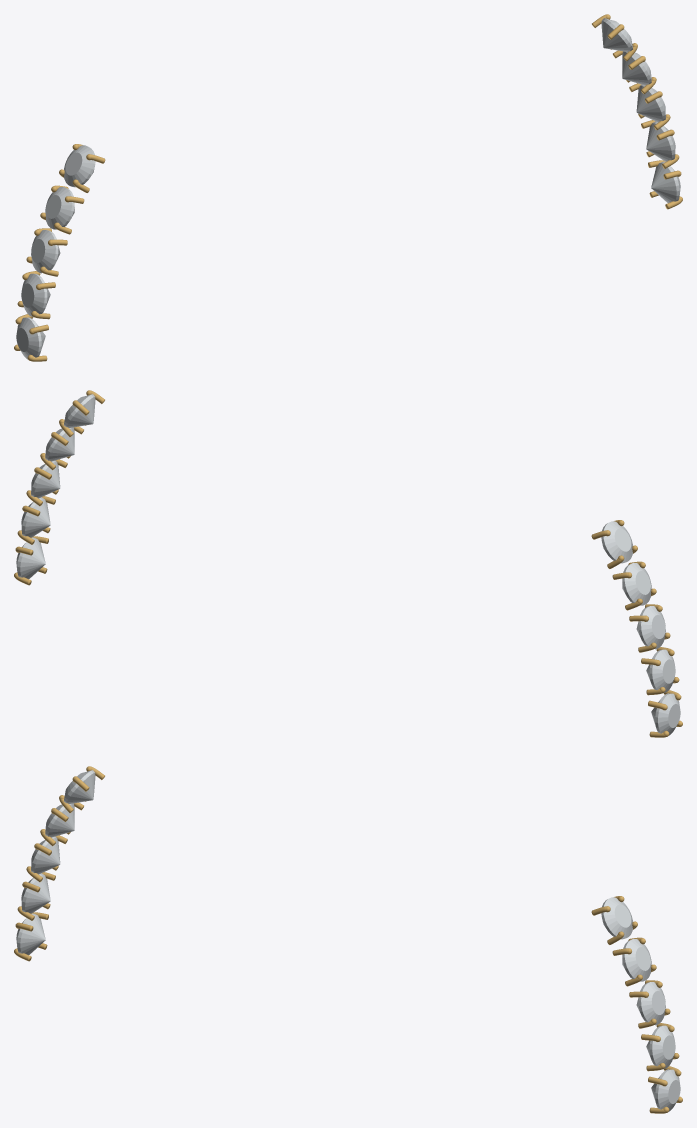
Rendered from accents-micro-pave-wide.glb.
The picture shows the model from 3 angles, top to bottom: view 1: azimuth 30°, elevation 25°; view 2: azimuth 150°, elevation 25°; view 3: azimuth 330°, elevation 25°; orthographic projection.
Parts seen in each view (by area): view 1: Gem, Gem.001, Gem.002, Gem.003, Gem.004, Gem.009, Gem.008, Gem.005, Gem.007, Gem.006; view 2: Gem, Gem.001, Gem.002, Gem.003, Gem.004, Gem.009, Gem.008, Gem.005, Gem.007, Gem.006; view 3: Gem.005, Gem.006, Gem.007, Gem.008, Gem.009, Gem.004, Gem.003, Gem, Gem.002, Gem.001.
Boxes of the visible parts, bbox=[...] form: Gem: bbox=[64, 145, 95, 187]; Gem.001: bbox=[45, 187, 74, 229]; Gem.002: bbox=[31, 230, 60, 273]; Gem.003: bbox=[21, 273, 50, 316]; Gem.004: bbox=[16, 317, 45, 359]; Gem.009: bbox=[651, 161, 680, 202]; Gem.008: bbox=[646, 121, 675, 161]; Gem.005: bbox=[601, 18, 632, 51]; Gem.007: bbox=[636, 84, 665, 122]; Gem.006: bbox=[622, 51, 651, 85]; Gem: bbox=[601, 521, 632, 563]; Gem.001: bbox=[622, 563, 651, 605]; Gem.002: bbox=[636, 606, 665, 649]; Gem.003: bbox=[646, 649, 675, 692]; Gem.004: bbox=[651, 693, 680, 735]; Gem.009: bbox=[16, 537, 45, 578]; Gem.008: bbox=[21, 497, 50, 537]; Gem.005: bbox=[64, 394, 95, 427]; Gem.007: bbox=[31, 460, 60, 498]; Gem.006: bbox=[45, 427, 74, 461]; Gem.005: bbox=[601, 897, 632, 939]; Gem.006: bbox=[622, 939, 651, 981]; Gem.007: bbox=[636, 982, 665, 1025]; Gem.008: bbox=[646, 1025, 675, 1068]; Gem.009: bbox=[651, 1069, 680, 1111]; Gem.004: bbox=[16, 913, 45, 954]; Gem.003: bbox=[21, 873, 50, 913]; Gem: bbox=[64, 770, 95, 803]; Gem.002: bbox=[31, 836, 60, 874]; Gem.001: bbox=[45, 803, 74, 837].
Size of the model in its own units: 19.88 by 5.72 by 1.15.
